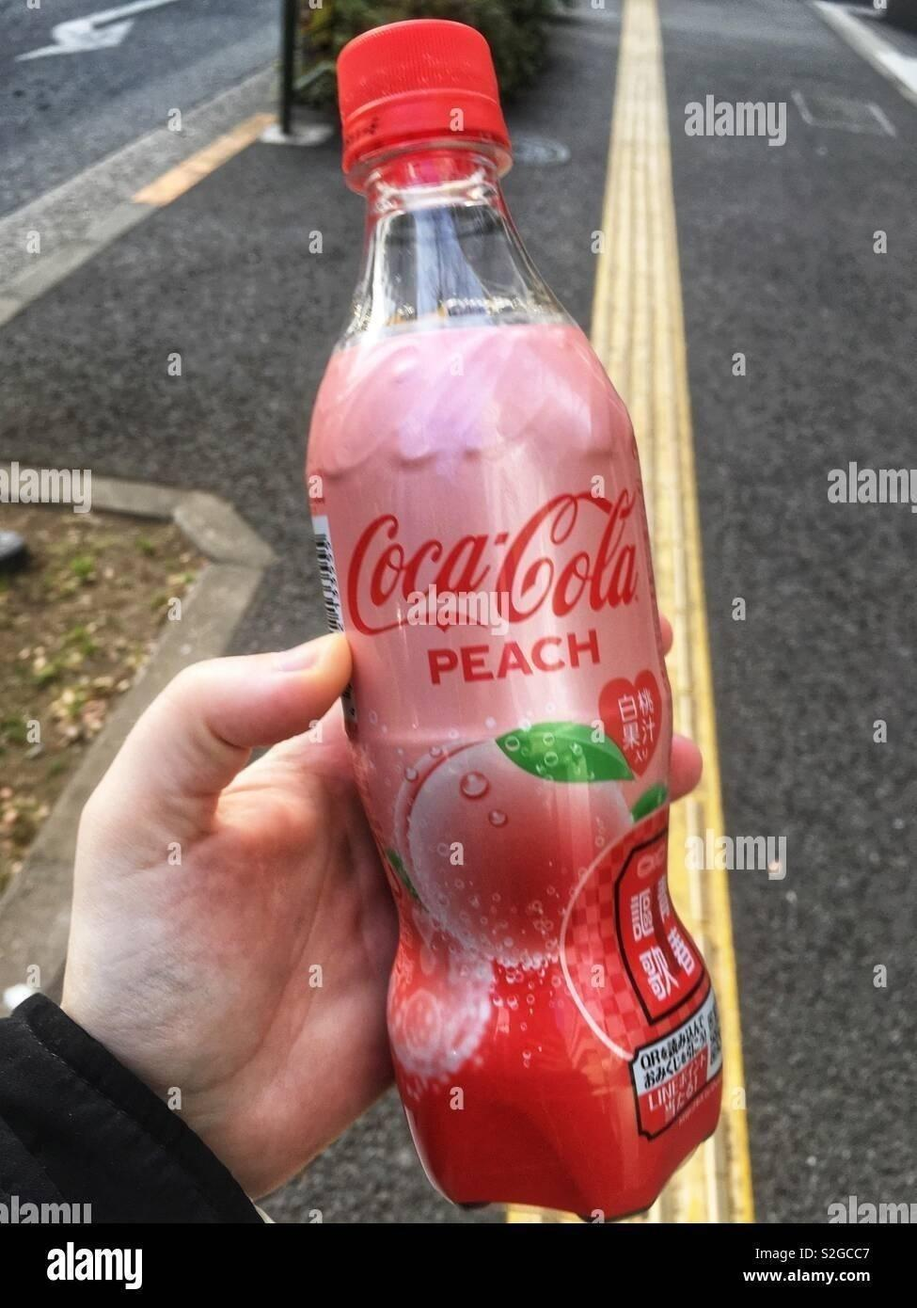bottle-plastic: (297, 13, 736, 1222)
